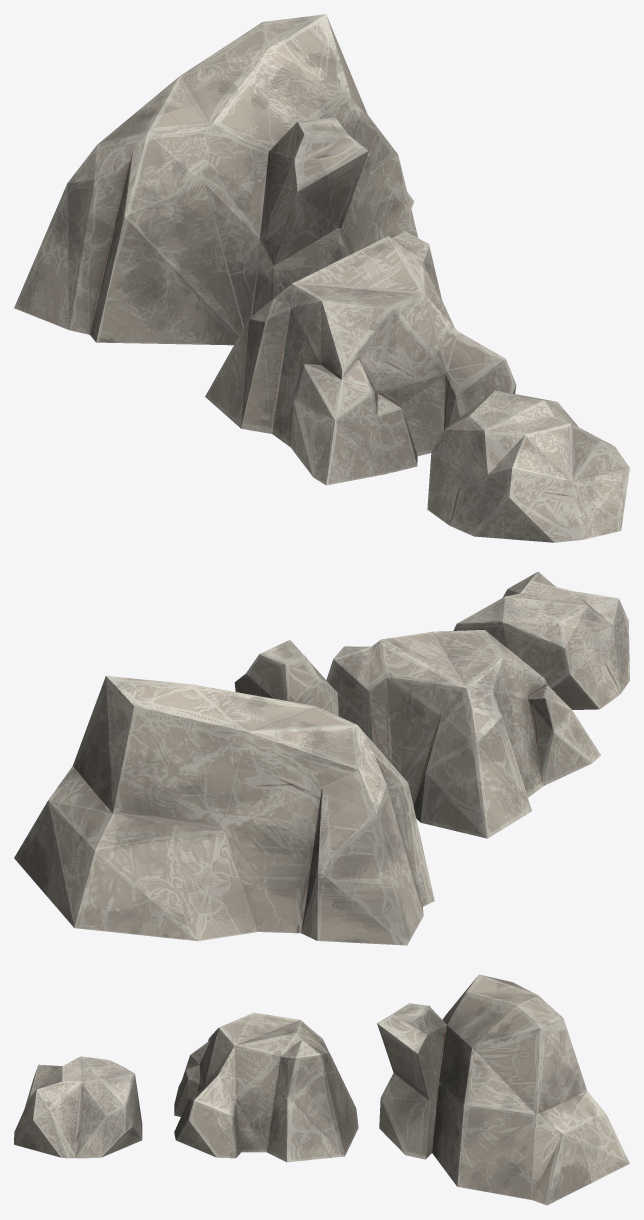
Rendered from stylized_rock_for_game.glb.
3 views of the same model, one above another, from view 1: azimuth 30°, elevation 25°; view 2: azimuth 150°, elevation 25°; view 3: azimuth 270°, elevation 25° (orthographic). The views are drawn at different scales.
Visible parts, largest first — view 1: Cube.001, Cube, Cube.004; view 2: Cube.001, Cube, Cube.004; view 3: Cube.001, Cube, Cube.004.
Part boxes in pixels (<box>): Cube.001: <box>14,14,418,345</box>; Cube: <box>205,231,516,485</box>; Cube.004: <box>427,390,629,542</box>; Cube.001: <box>14,640,434,945</box>; Cube: <box>326,630,600,838</box>; Cube.004: <box>453,571,629,709</box>; Cube.001: <box>377,974,629,1205</box>; Cube: <box>174,1012,358,1162</box>; Cube.004: <box>14,1056,142,1158</box>.
Bounding box in the file's own units: 7.02 × 3.5 × 13.33.
1 material, 1 textured.
